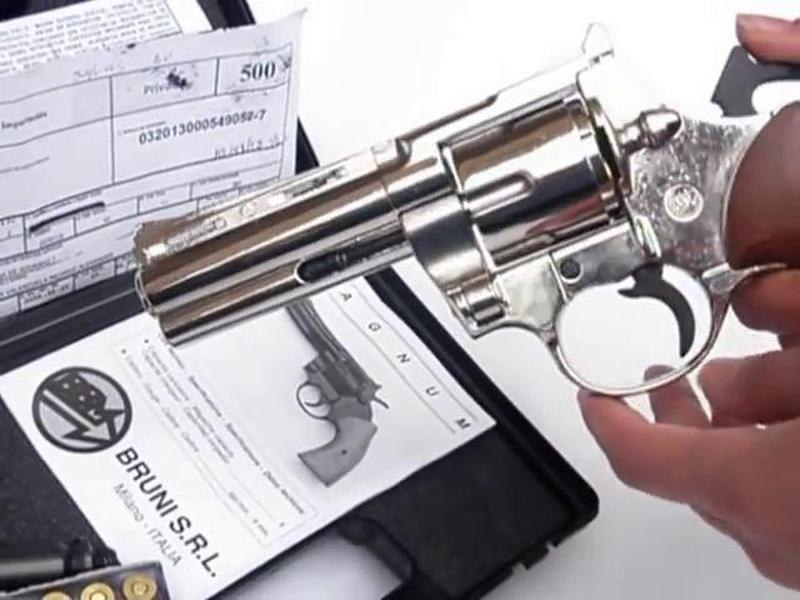Revolver: (109, 36, 800, 425)
